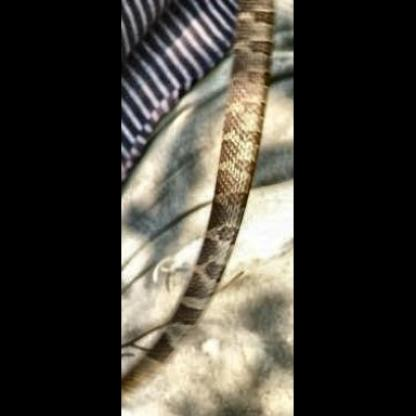Snake: (129, 0, 283, 415)
